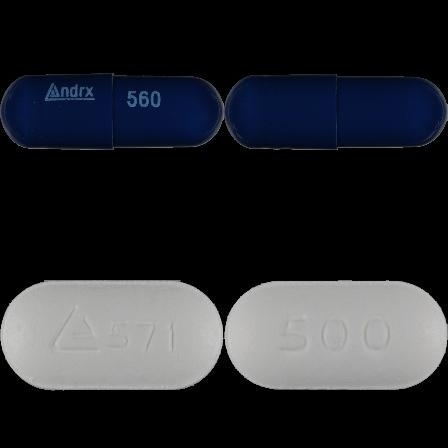62037-560: (0, 0, 224, 224)
